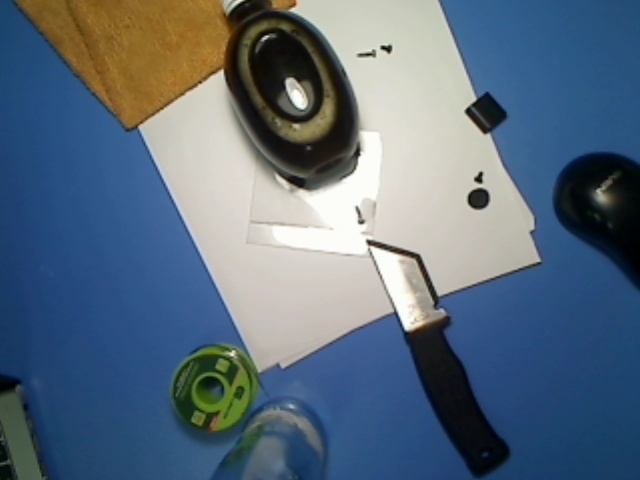plast_bottle: (218, 1, 364, 184)
